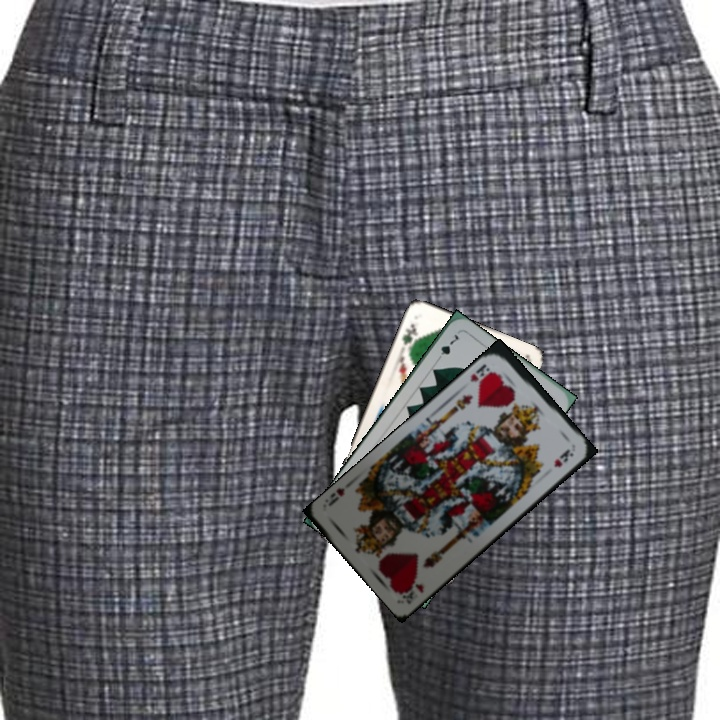G7: (432, 330, 462, 365)
GK: (398, 320, 420, 352)
HK: (398, 578, 426, 606), (466, 360, 492, 385)
